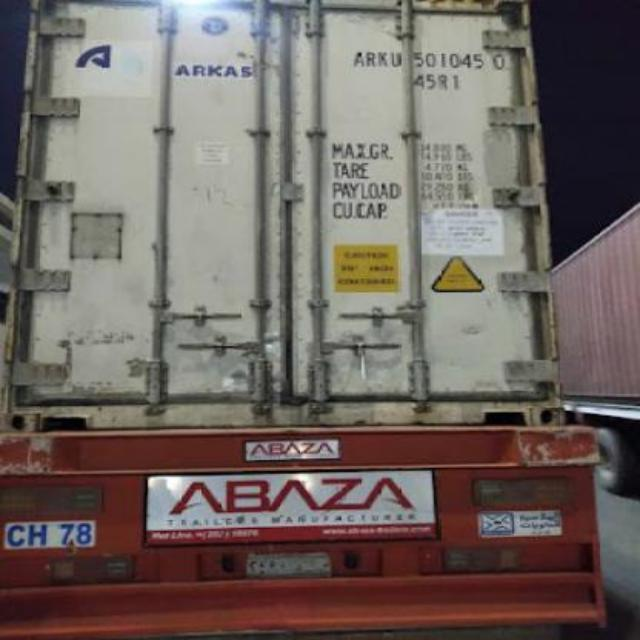0: (492, 52, 504, 68), (426, 52, 436, 68), (450, 53, 460, 69)
1: (438, 51, 450, 71)
4: (460, 51, 472, 69)
5: (471, 51, 484, 71), (412, 51, 426, 67)
A: (350, 49, 366, 69)
K: (378, 50, 390, 66)
R: (366, 50, 378, 66)
U: (390, 51, 402, 67)
